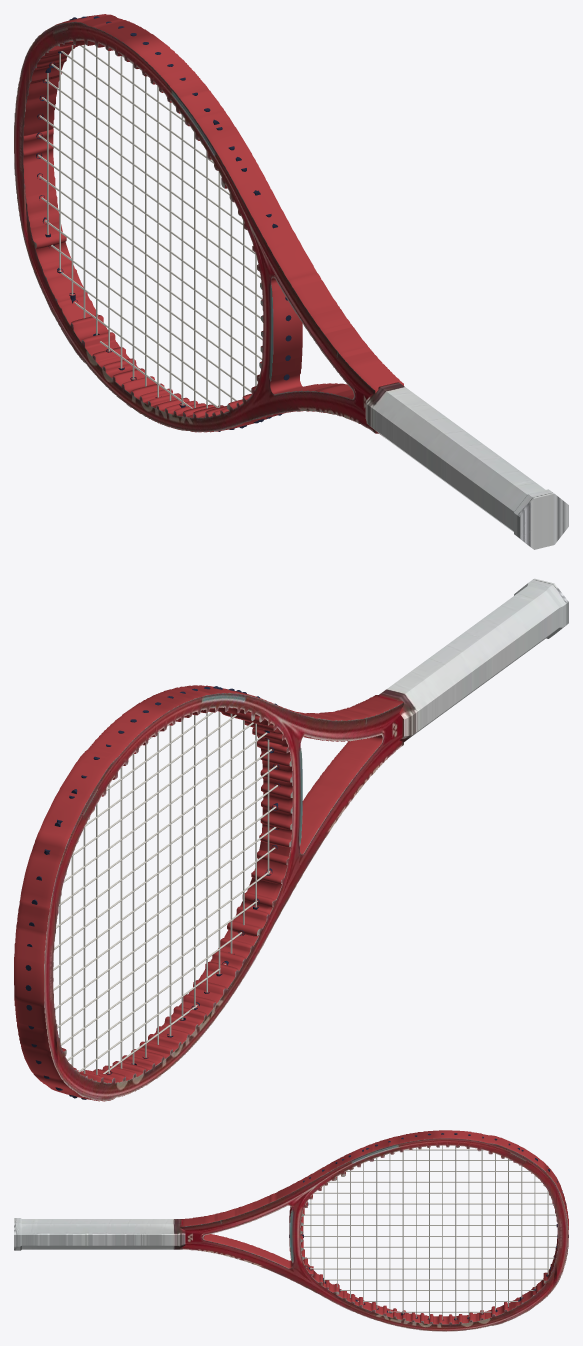
Rendered from racket-vcore.glb.
The picture shows the model from 3 angles, top to bottom: view 1: azimuth 30°, elevation 25°; view 2: azimuth 150°, elevation 25°; view 3: azimuth 270°, elevation 25°; orthographic projection. The views are drawn at different scales.
Parts seen in each view (by area): view 1: RacketMesh; view 2: RacketMesh; view 3: RacketMesh.
Boxes of the visible parts, box(x1,y1,x2,y2) form: RacketMesh: box(14, 14, 568, 549); RacketMesh: box(14, 578, 568, 1101); RacketMesh: box(14, 1130, 568, 1331).
Size of the model in its own units: 0.0377 by 0.2655 by 0.6863.
4 materials, 1 textured.
